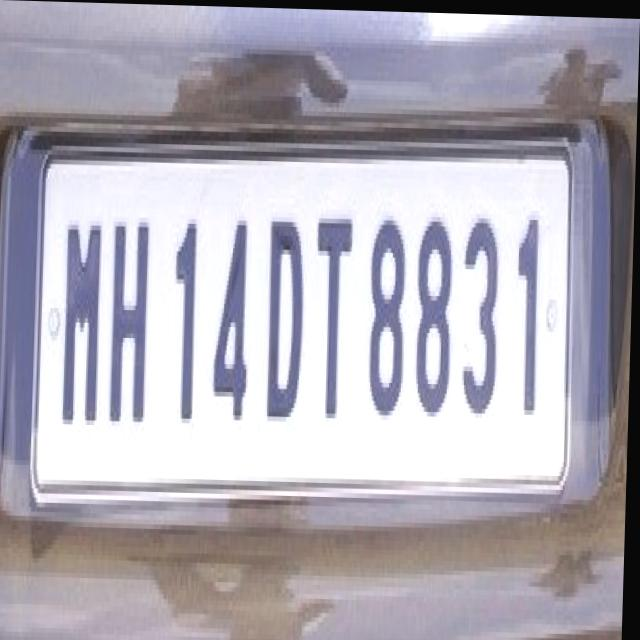plate: (36, 132, 574, 494)
